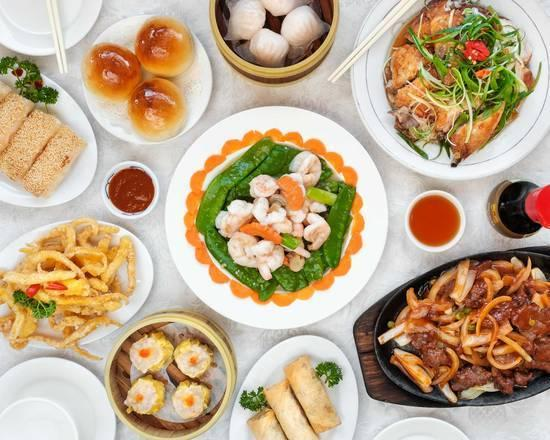Braised Crucian Carp: (165, 106, 387, 328), (350, 1, 549, 182), (360, 247, 546, 406), (2, 217, 156, 348), (80, 14, 211, 147), (104, 310, 235, 439), (227, 335, 361, 439), (0, 355, 115, 437)
